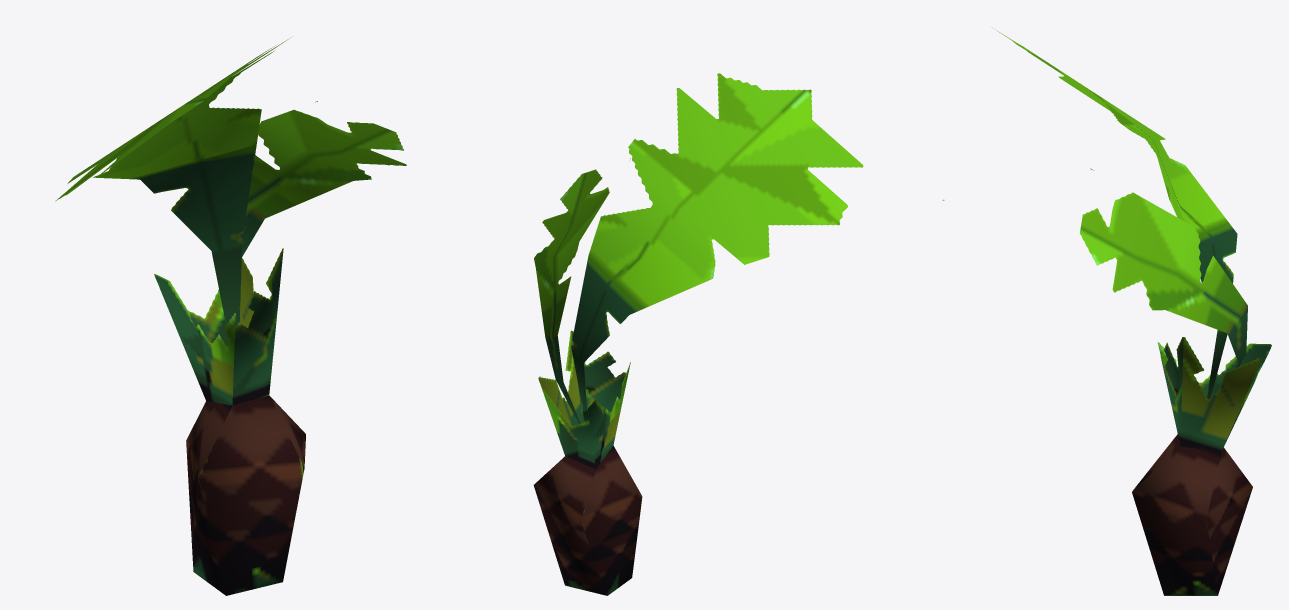
File: palm_fan.obj
3 renders of one model, left to right at view 1: azimuth 30°, elevation 25°; view 2: azimuth 150°, elevation 25°; view 3: azimuth 270°, elevation 25°, orthographic. The views are drawn at different scales.
Visible parts, largest first — view 1: palm_fan; view 2: palm_fan; view 3: palm_fan.
Part boxes in pixels (x1,y1,x2,y2): palm_fan: (55, 38, 406, 595); palm_fan: (533, 73, 944, 595); palm_fan: (993, 28, 1271, 595).
Bounding box in the file's own units: 1.8 × 2.22 × 1.1.
Materials: 1 (1 with a texture image).
